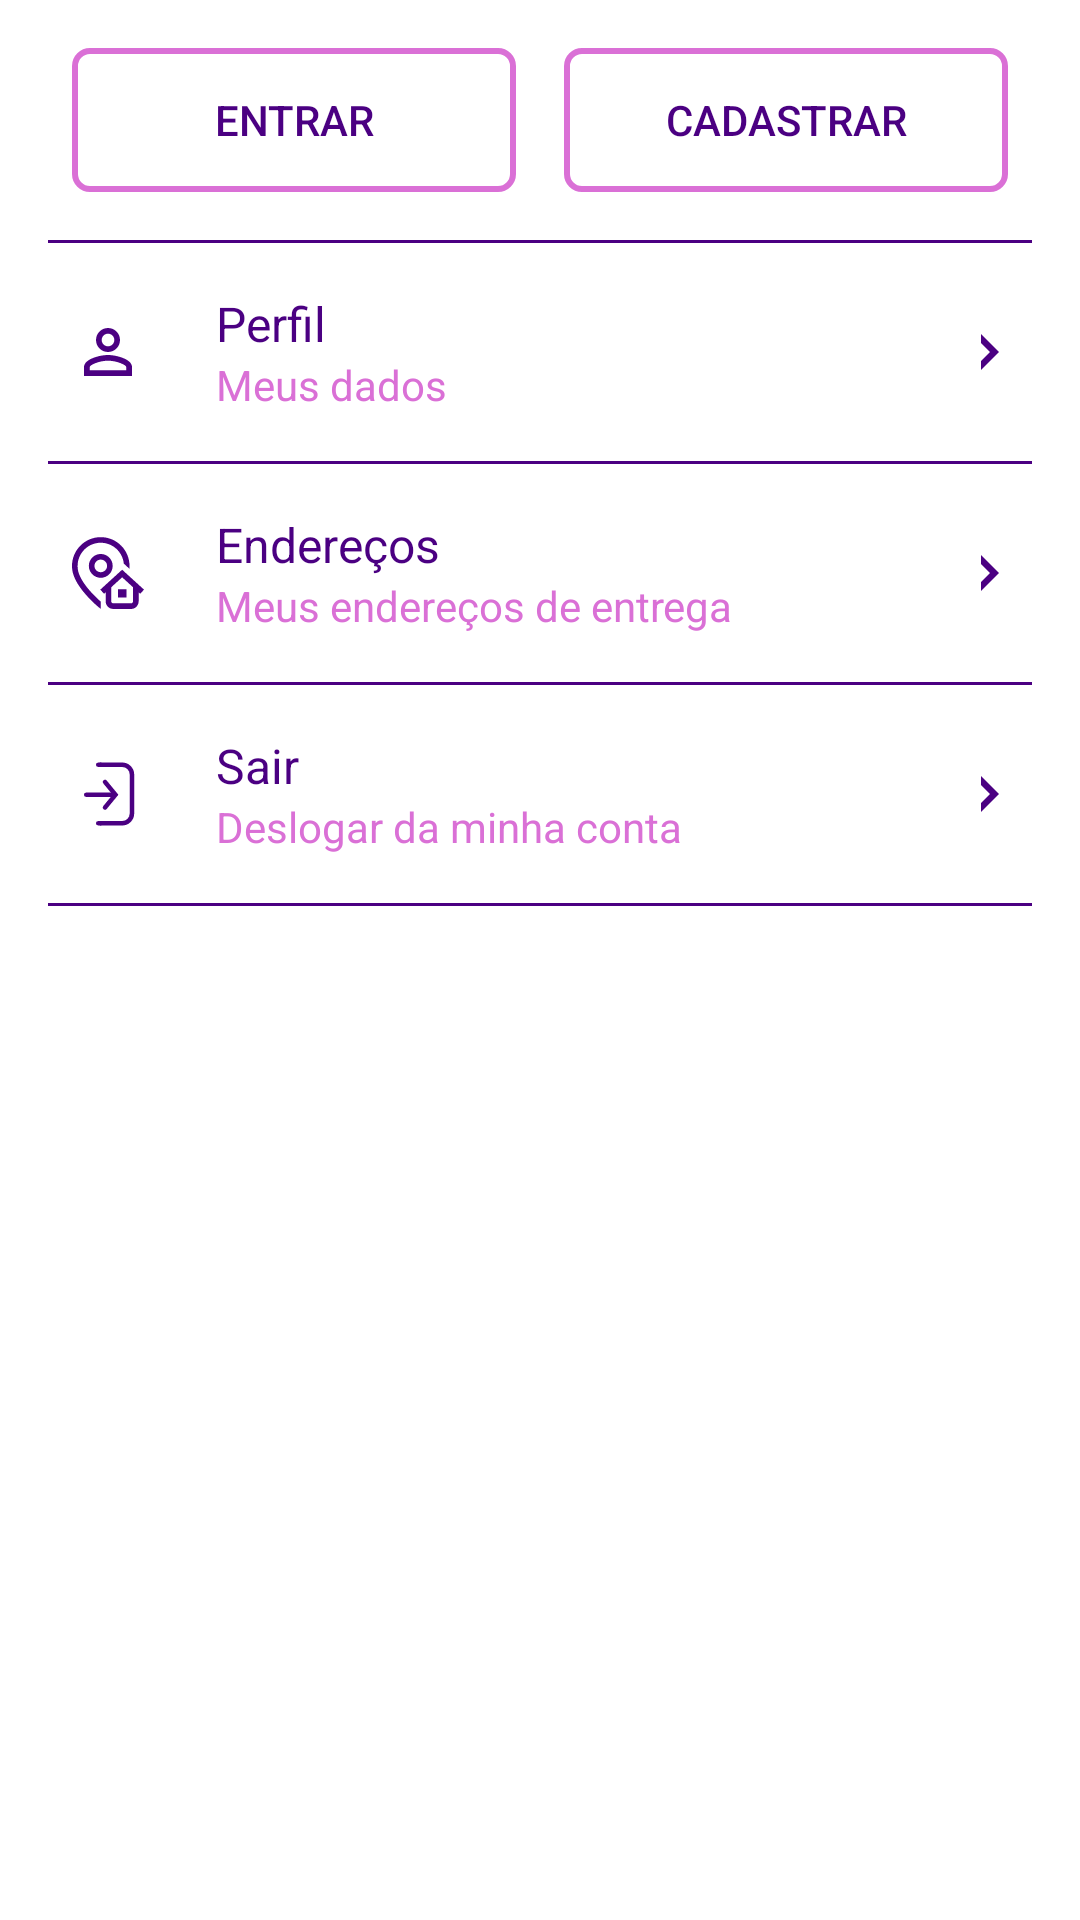

Locate icon controls on the screen. Image size 1080×1920, boxes as (x1, y1, x2, y2).
endereco: (72, 537, 144, 609)
seta direita: (981, 334, 999, 370), (981, 555, 999, 591), (981, 776, 999, 812)
user on: (84, 328, 132, 376)
